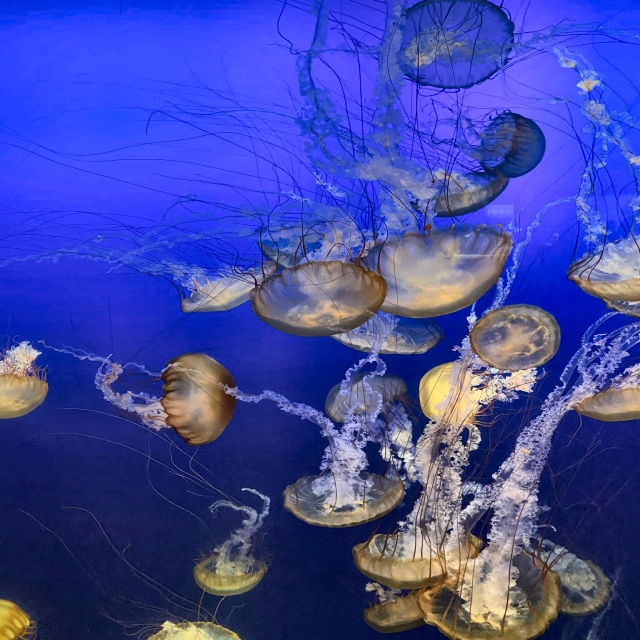jellyfish: (381, 0, 537, 105), (422, 542, 572, 636), (359, 224, 507, 319), (257, 265, 391, 333), (355, 522, 487, 581), (285, 468, 413, 528), (167, 353, 242, 447), (462, 312, 565, 378), (525, 544, 620, 615), (470, 118, 555, 181), (403, 363, 484, 429), (330, 314, 446, 357), (403, 170, 516, 213), (570, 369, 639, 437), (568, 233, 639, 298), (174, 552, 282, 593), (358, 582, 456, 627), (324, 370, 407, 418), (0, 365, 62, 421), (185, 277, 265, 317), (144, 617, 240, 639), (0, 595, 33, 639)
